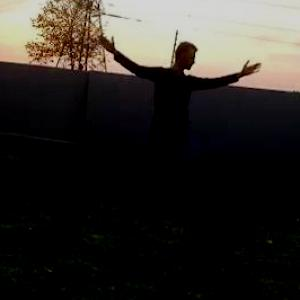takeoff: (92, 34, 250, 212)
